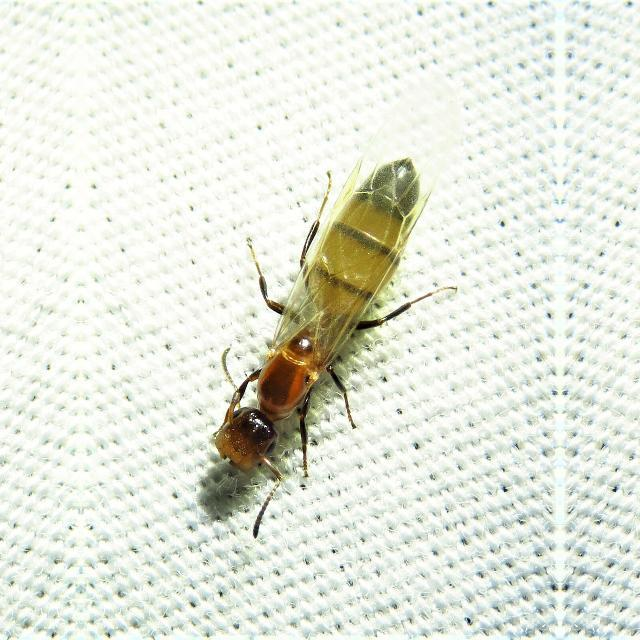Colobopsis: (190, 125, 446, 520)
